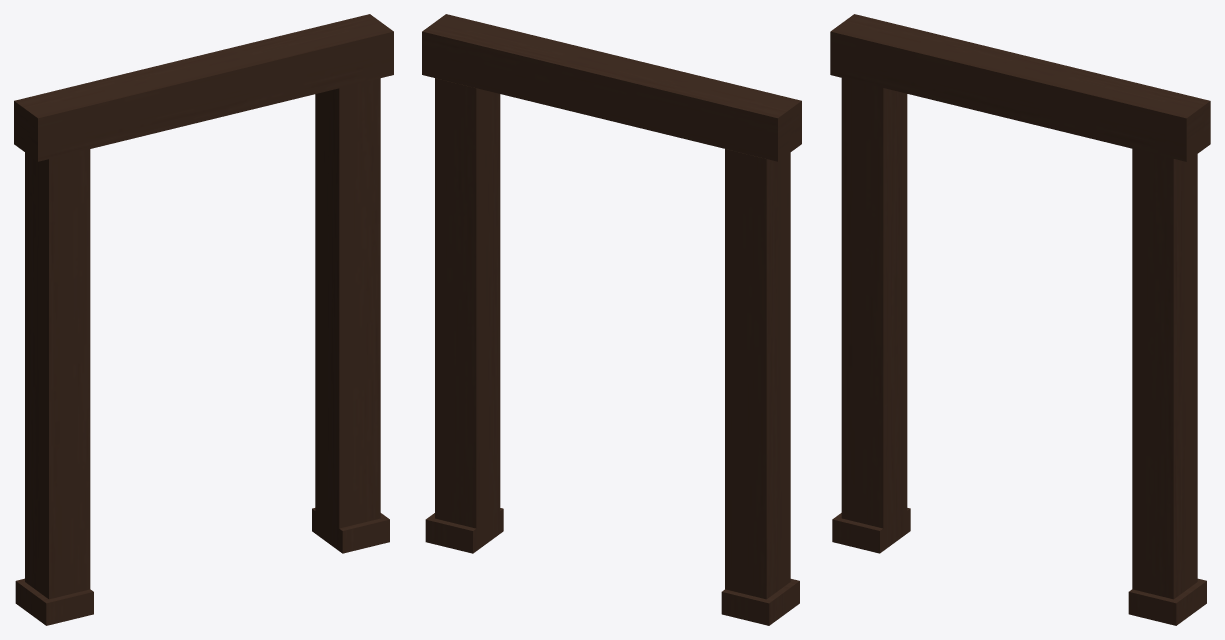
File: Doorframe_B.FBX
The picture shows the model from 3 angles, left to right: view 1: azimuth 30°, elevation 25°; view 2: azimuth 150°, elevation 25°; view 3: azimuth 330°, elevation 25°; orthographic projection.
Visible parts, largest first — view 1: DoorFrame_02; view 2: DoorFrame_02; view 3: DoorFrame_02.
Part boxes in pixels (box(x1,y1,x2,y2)): DoorFrame_02: box(14, 14, 393, 625); DoorFrame_02: box(422, 14, 801, 625); DoorFrame_02: box(830, 14, 1210, 625).
Bounding box in the file's own units: 300 × 408 × 44.91.
